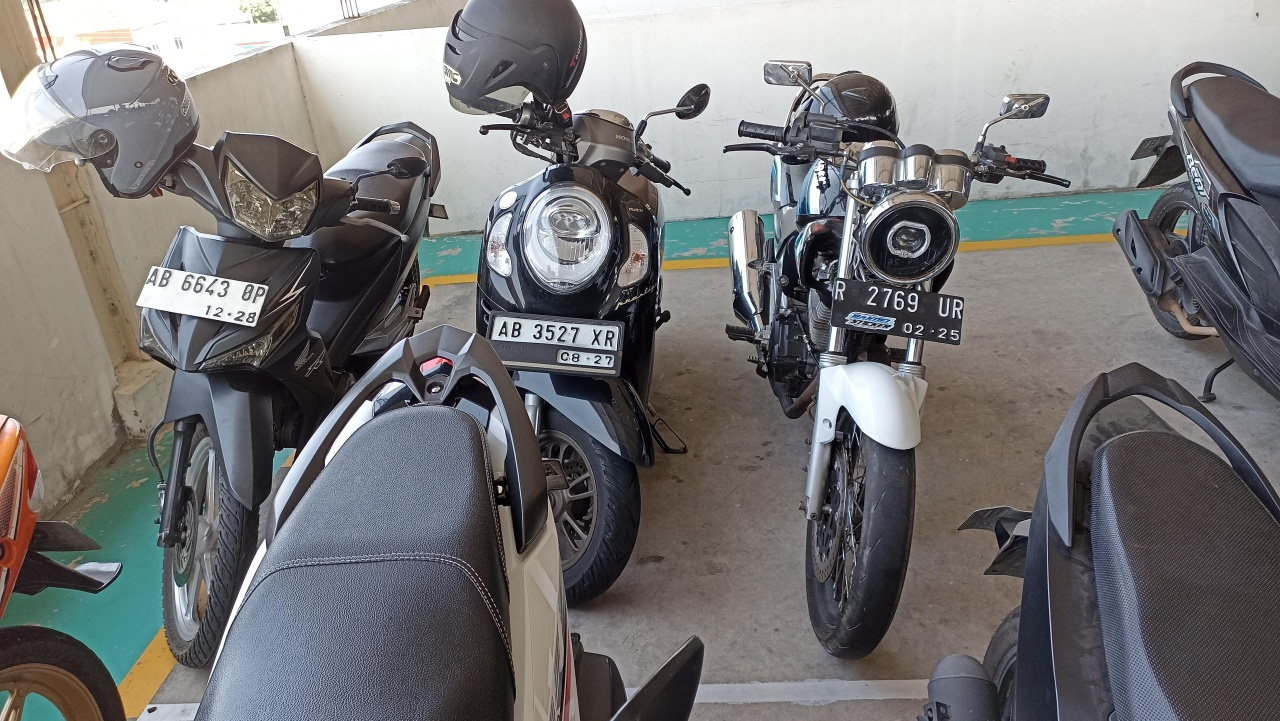plate: (830, 277, 965, 346), (483, 312, 624, 377), (136, 266, 268, 327)
